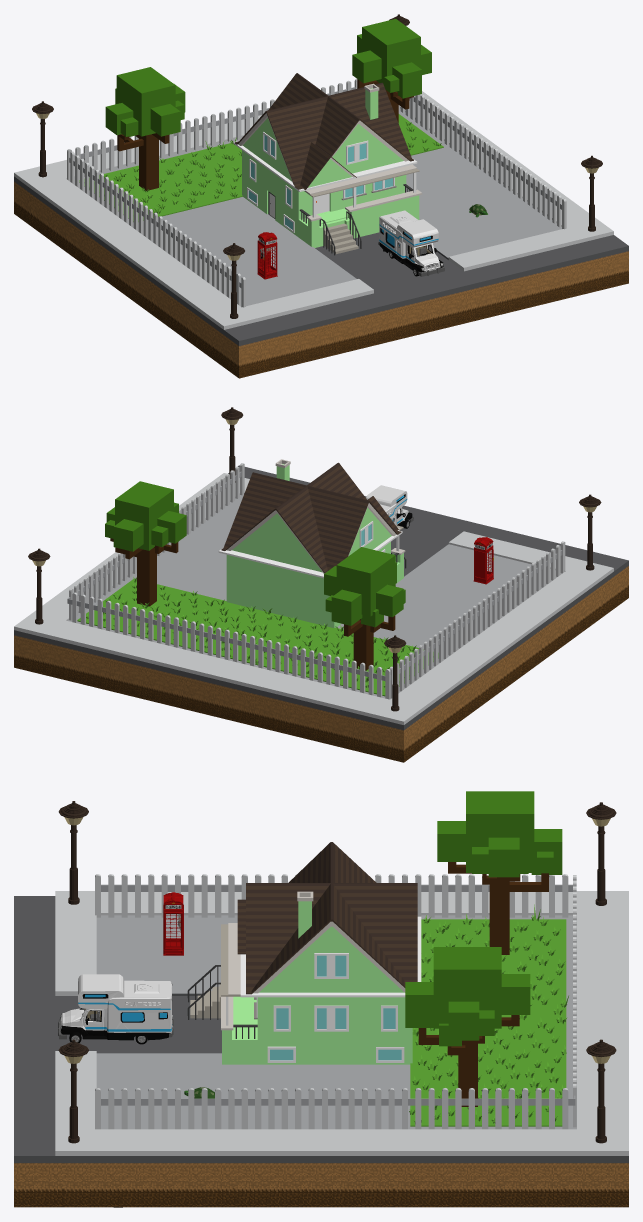
3 renders of one model, top to bottom at view 1: azimuth 30°, elevation 25°; view 2: azimuth 150°, elevation 25°; view 3: azimuth 270°, elevation 25°, orthographic. The views are drawn at different scales.
Parts seen in each view (by area): view 1: Cube.004, Cube.274, VEHICLES_CAMPER, OBJRANDOM_PHONEBOOTH; view 2: Cube.004, Cube.274, VEHICLES_CAMPER, OBJRANDOM_PHONEBOOTH; view 3: Cube.004, Cube.274, VEHICLES_CAMPER, OBJRANDOM_PHONEBOOTH.
Part boxes in pixels (left/top/right/bottom): Cube.004: left=14, top=14, right=628, bottom=378; Cube.274: left=233, top=73, right=422, bottom=255; VEHICLES_CAMPER: left=378, top=210, right=444, bottom=276; OBJRANDOM_PHONEBOOTH: left=257, top=232, right=277, bottom=279; Cube.004: left=14, top=407, right=628, bottom=762; Cube.274: left=218, top=459, right=406, bottom=627; VEHICLES_CAMPER: left=366, top=485, right=413, bottom=528; OBJRANDOM_PHONEBOOTH: left=473, top=537, right=493, bottom=584; Cube.004: left=14, top=791, right=628, bottom=1207; Cube.274: left=187, top=842, right=421, bottom=1064; VEHICLES_CAMPER: left=58, top=974, right=173, bottom=1044; OBJRANDOM_PHONEBOOTH: left=163, top=892, right=183, bottom=955.
Bounding box in the file's own units: 4000 × 1574 × 4000.
Materials: 44 (3 with a texture image).
